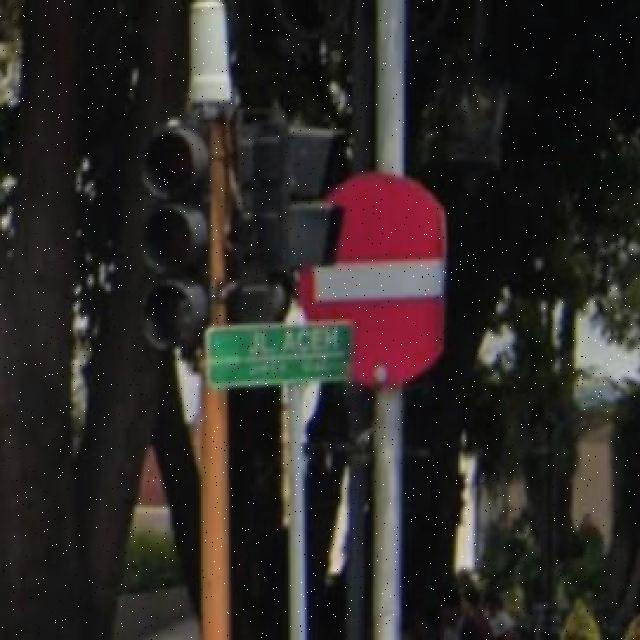Zakaz wjazdu: (302, 180, 446, 390)
